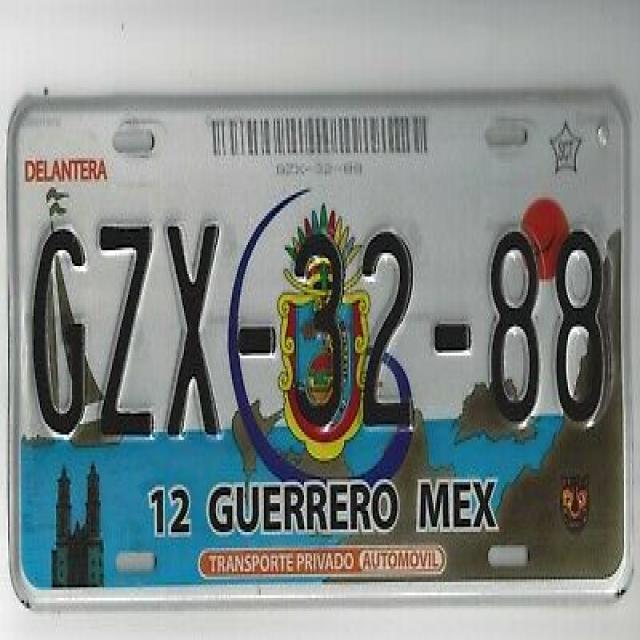placa: (11, 200, 631, 468)
